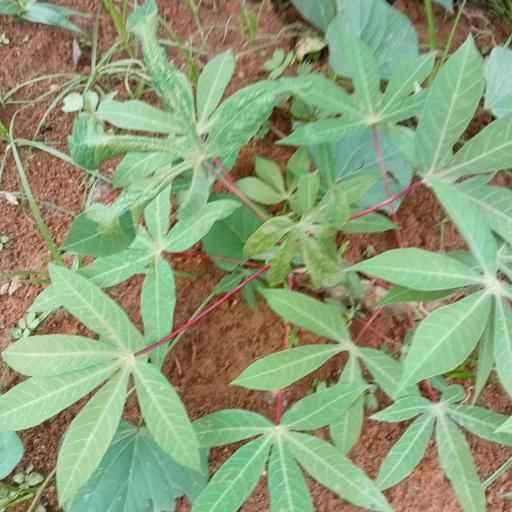Cassava_Mosaic: (58, 0, 295, 259), (0, 270, 197, 495)
